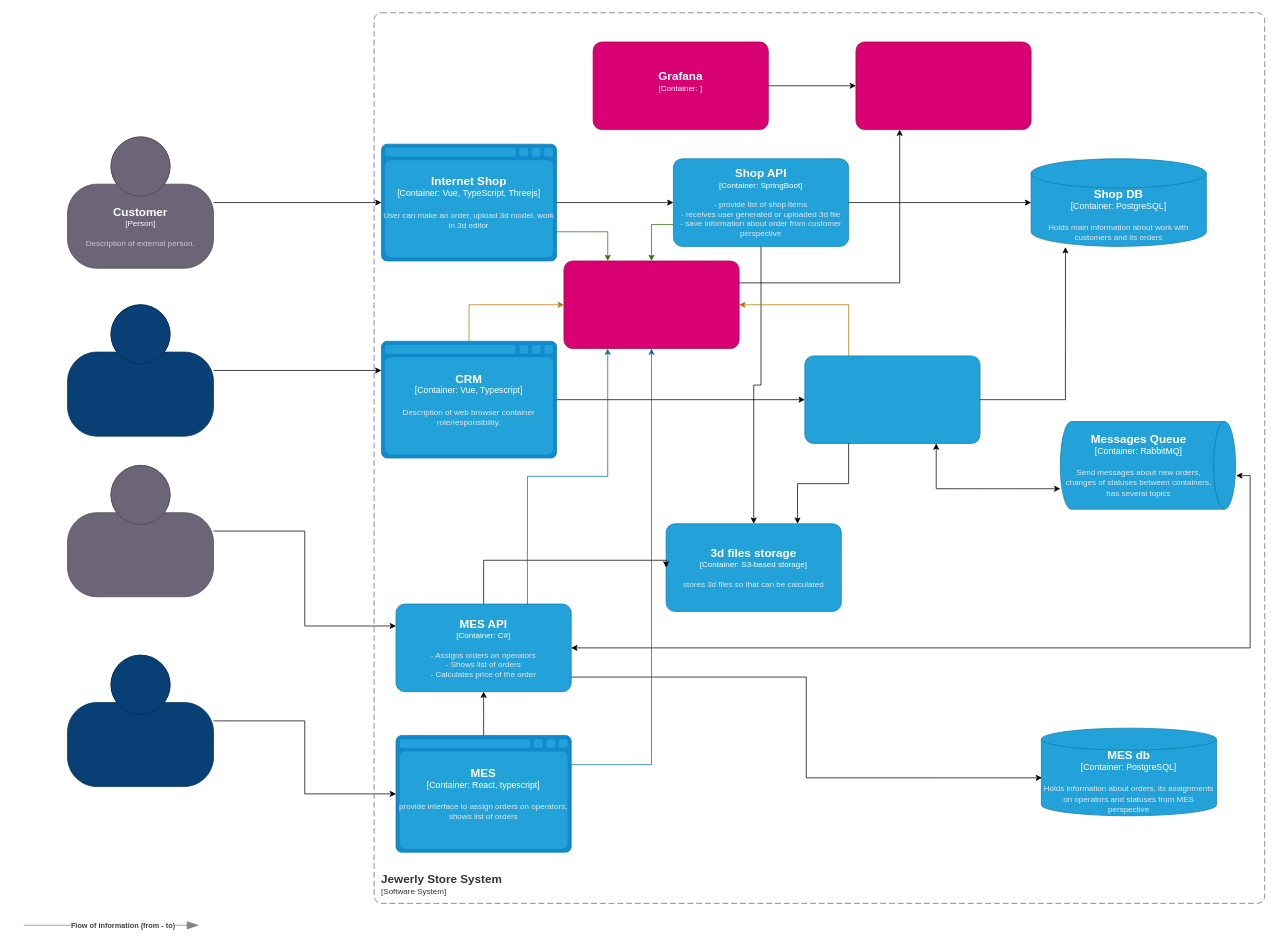
This 1278x950 diagram has some shape labels left out. The centre of each missing label's shape, as x and y in pixels:
API user [Person] Description of external person.: point 140,531
CRM API [Container: SpringBoot] Description of container role/responsibility.: point 892,399
OpenTelemetry [Container: ]: point 651,304
Operator [Person] Takes order in work, manufactures jewerly: point 140,720
Prometheus [Container: ]: point 943,85
Seller [Person] Operates with order, confirms manufacturing for the user: point 140,370
